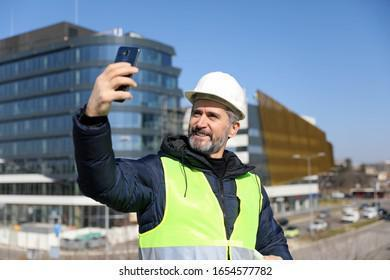helmet: (184, 71, 247, 117)
